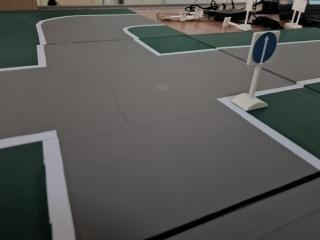straight: (247, 31, 280, 65)
